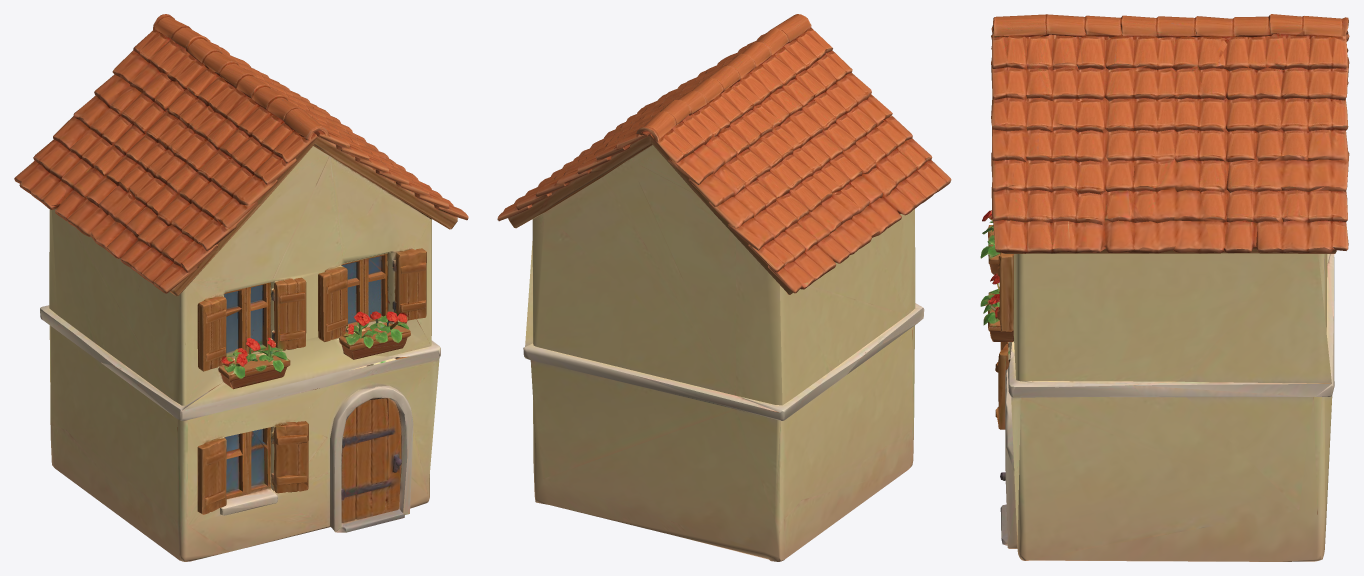
Rendered from houseA.glb.
The picture shows the model from 3 angles, left to right: view 1: azimuth 30°, elevation 25°; view 2: azimuth 150°, elevation 25°; view 3: azimuth 270°, elevation 25°; orthographic projection. The views are drawn at different scales.
Bounding box in the file's own units: 1.45 × 1.9 × 1.33.
Materials: 1 (1 with a texture image).
